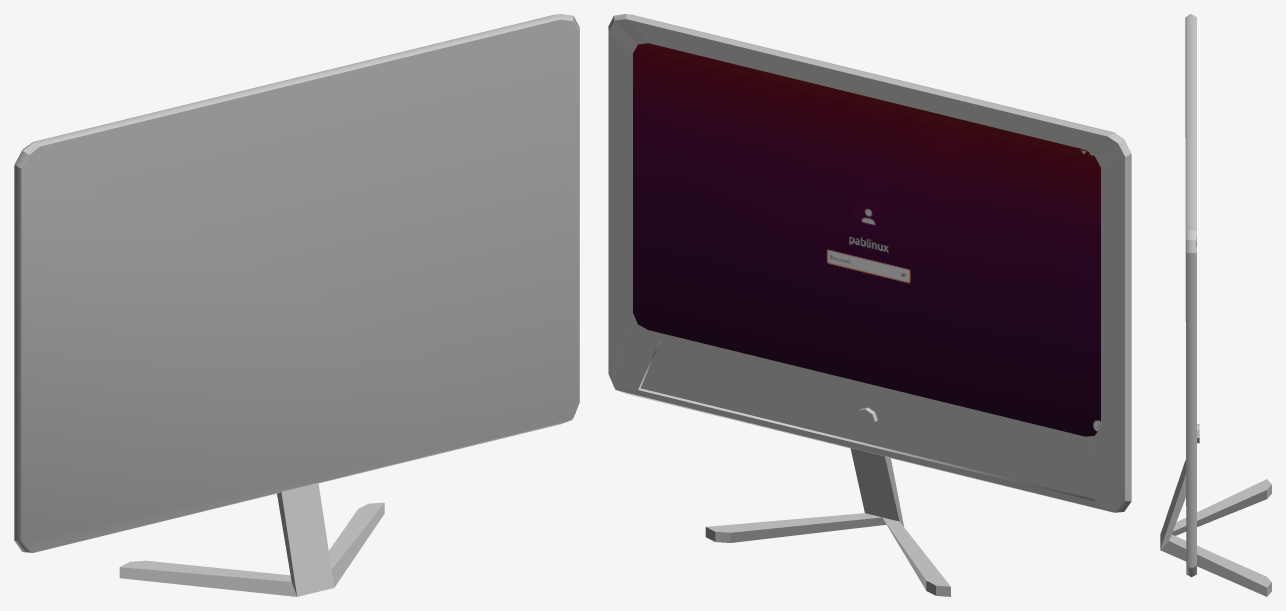
File: All_In_One_LOD1.fbx
3 renders of one model, left to right at view 1: azimuth 30°, elevation 25°; view 2: azimuth 150°, elevation 25°; view 3: azimuth 270°, elevation 25°, orthographic. The views are drawn at different scales.
Parts seen in each view (by area): view 1: Laptop.001; view 2: Laptop.001; view 3: Laptop.001.
Part boxes in pixels (left/top/right/bottom): Laptop.001: left=14, top=14, right=579, bottom=596; Laptop.001: left=608, top=14, right=1131, bottom=596; Laptop.001: left=1160, top=14, right=1271, bottom=596.
Bounding box in the file's own units: 107 × 90.21 × 21.71.
